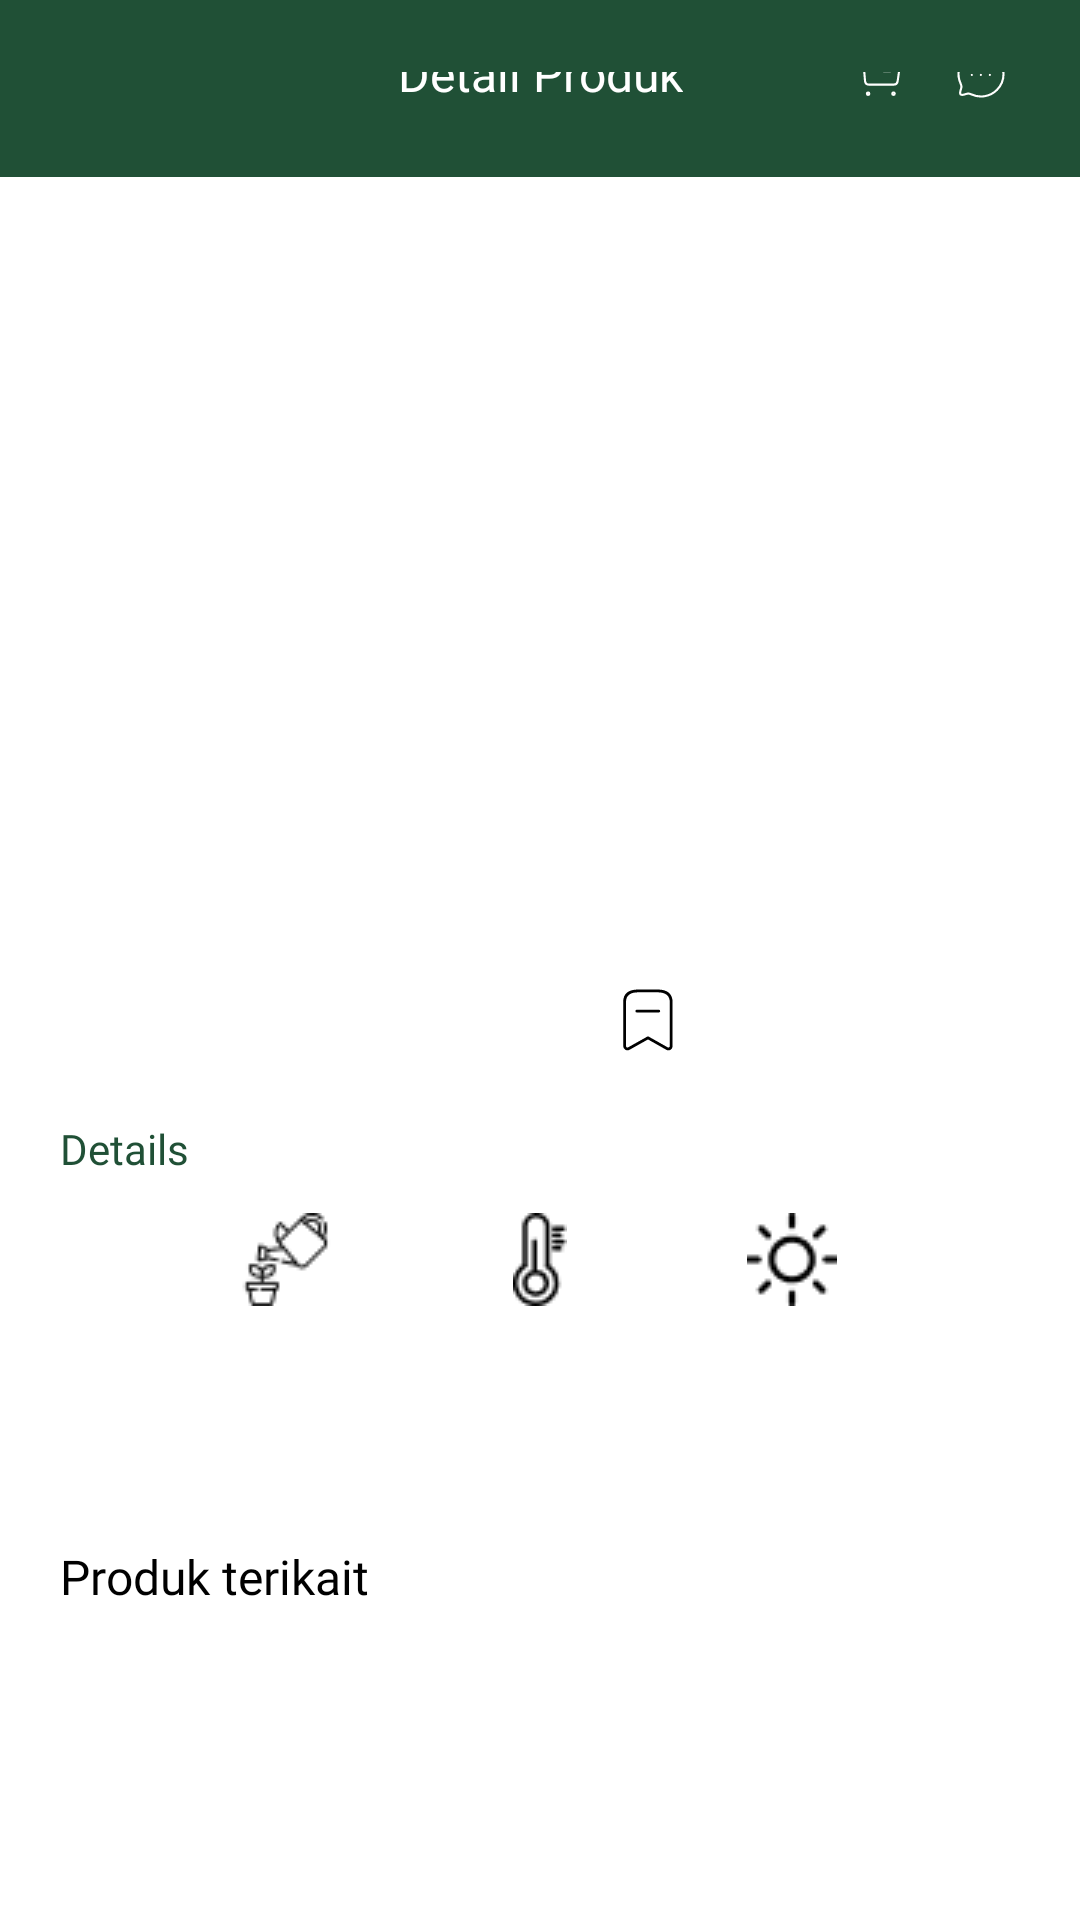

Where icons sit on this 1080w x 1920h app screen, as (x1, y1, x2, y2):
bookmark: (623, 989, 673, 1051)
cart: (863, 72, 900, 96)
chat: (957, 72, 1005, 98)
